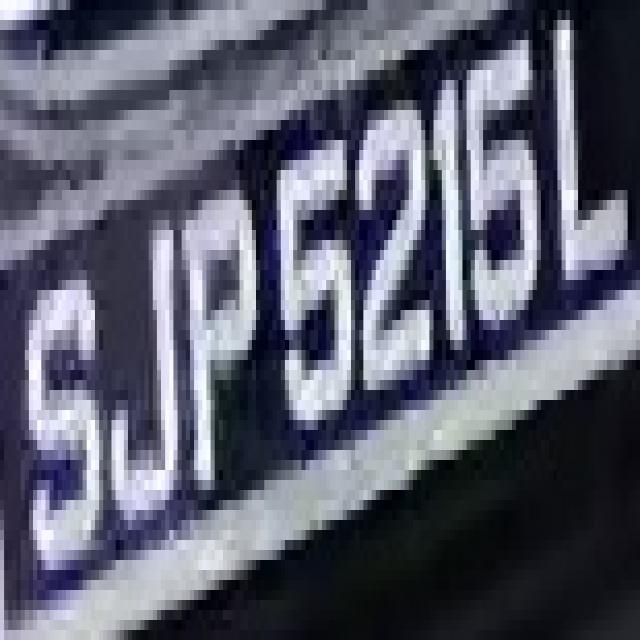1: (413, 90, 479, 400)
2: (343, 90, 429, 410)
5: (264, 140, 359, 470), (458, 40, 549, 340)
J: (103, 230, 190, 540)
L: (541, 20, 636, 300)
P: (165, 160, 260, 480)
S: (12, 260, 108, 580)
